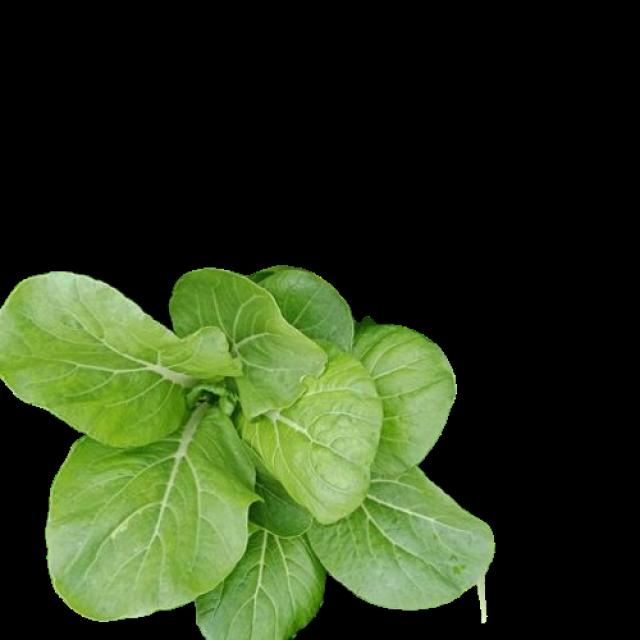healthy: (4, 266, 500, 640)
mature: (1, 266, 498, 640)
